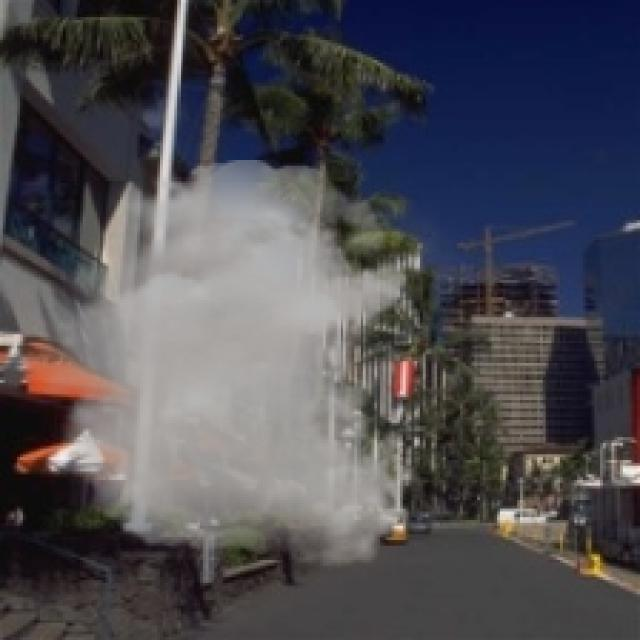smoke: (9, 160, 420, 569)
